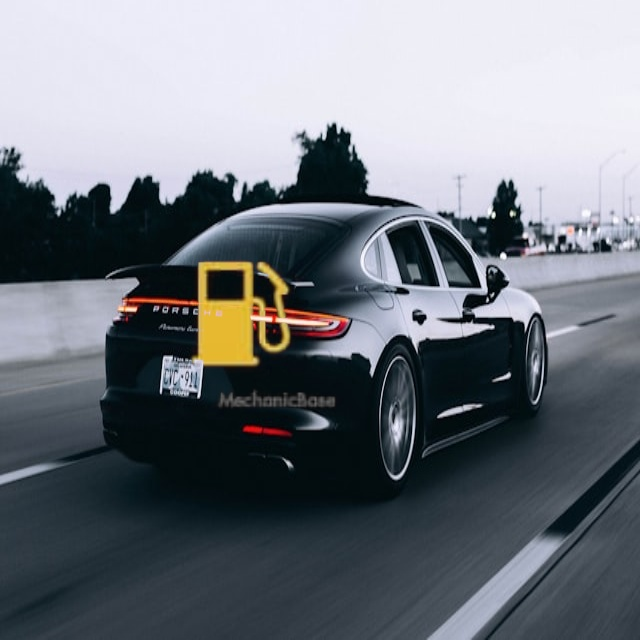symbol: (139, 213, 343, 417)
